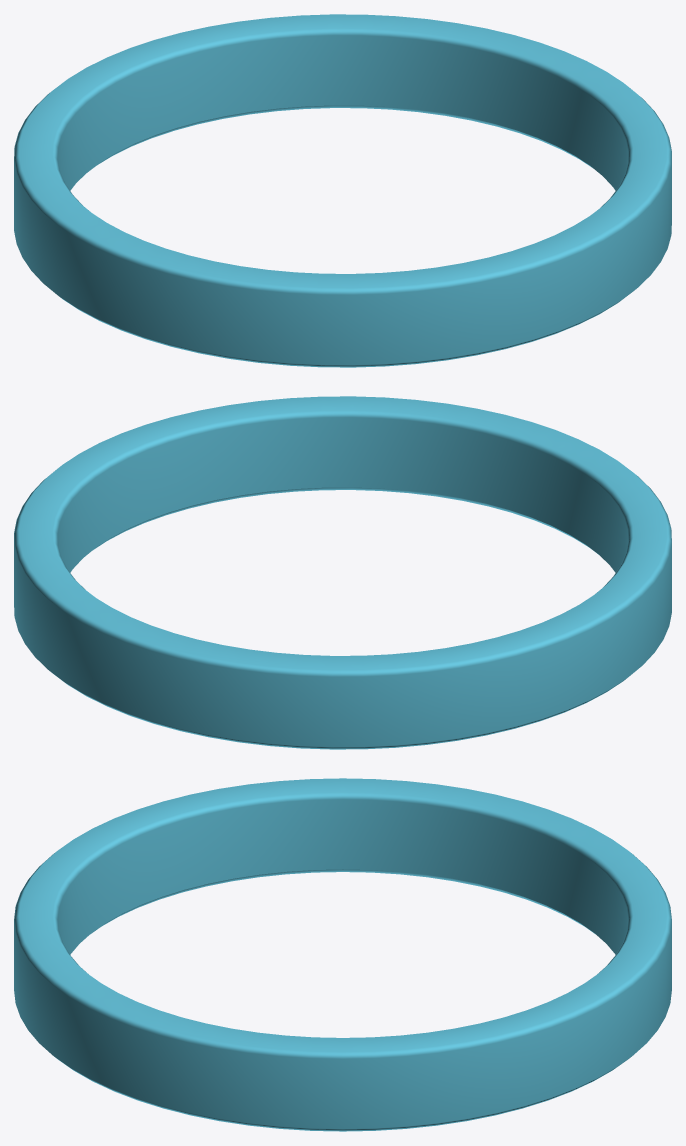
3 views of the same model, one above another, from view 1: azimuth 30°, elevation 25°; view 2: azimuth 150°, elevation 25°; view 3: azimuth 270°, elevation 25° (orthographic).
Parts seen in each view (by area): view 1: seal_body; view 2: seal_body; view 3: seal_body.
Part boxes in pixels (x1=…): seal_body: x1=14, y1=14, x2=671, y2=367; seal_body: x1=14, y1=396, x2=671, y2=749; seal_body: x1=14, y1=778, x2=671, y2=1131.
Bounding box in the file's own units: 0.0953 × 0.0127 × 0.0953.
